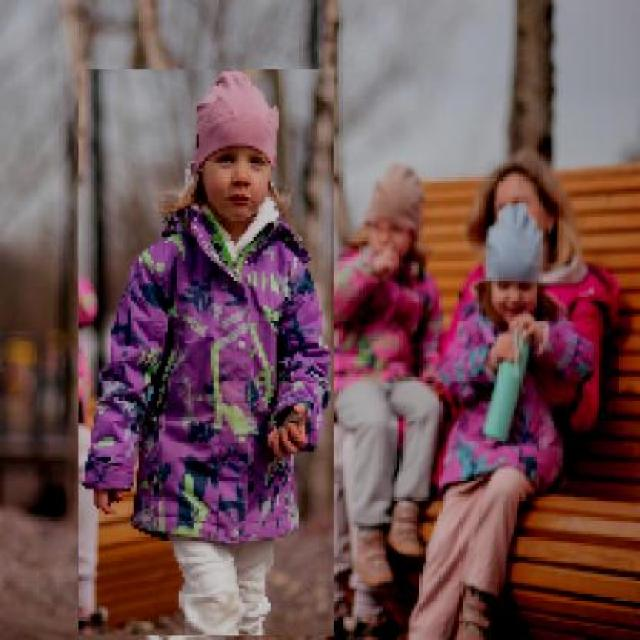child: (77, 69, 334, 637), (408, 202, 603, 638), (312, 163, 448, 583)
